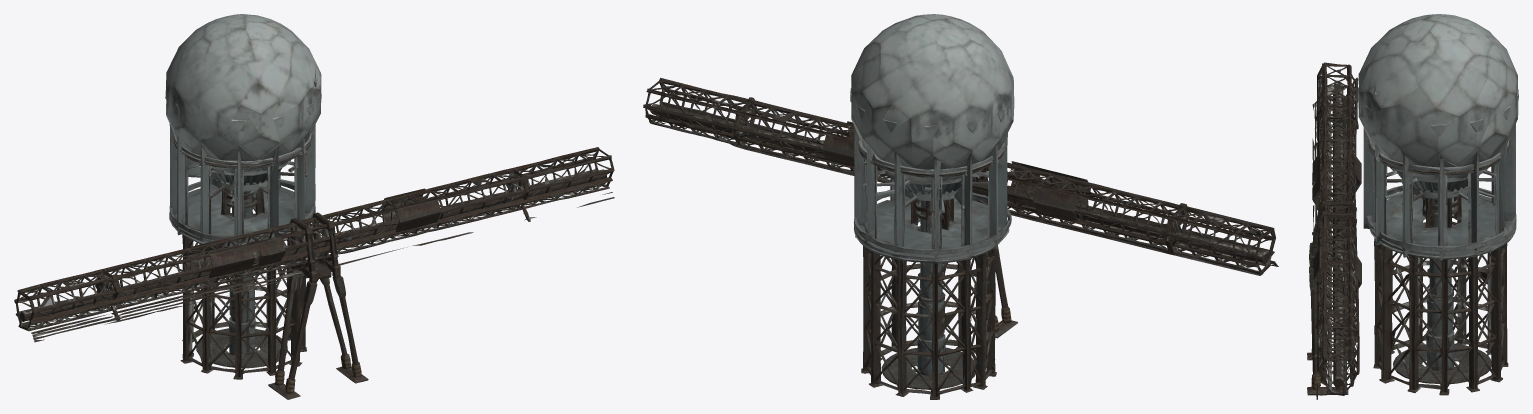
The model's file is coronettower.glb.
3 renders of one model, left to right at view 1: azimuth 30°, elevation 25°; view 2: azimuth 150°, elevation 25°; view 3: azimuth 270°, elevation 25°, orthographic. The views are drawn at different scales.
Parts seen in each view (by area): view 1: coronettower-centred; view 2: coronettower-centred; view 3: coronettower-centred.
Boxes of the visible parts, x1,y1,x2,y2 form: coronettower-centred: [14, 14, 614, 399]; coronettower-centred: [643, 14, 1278, 399]; coronettower-centred: [1307, 14, 1518, 399].
Size of the model in its own units: 110 by 60 by 33.24.
Materials: 1 (1 with a texture image).
